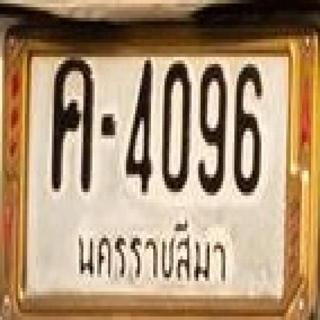A04: (50, 56, 97, 196)
N00: (157, 57, 193, 196)
N04: (123, 59, 157, 196)
N06: (231, 60, 270, 201)
N09: (194, 59, 230, 200)
P30: (69, 213, 235, 289)
